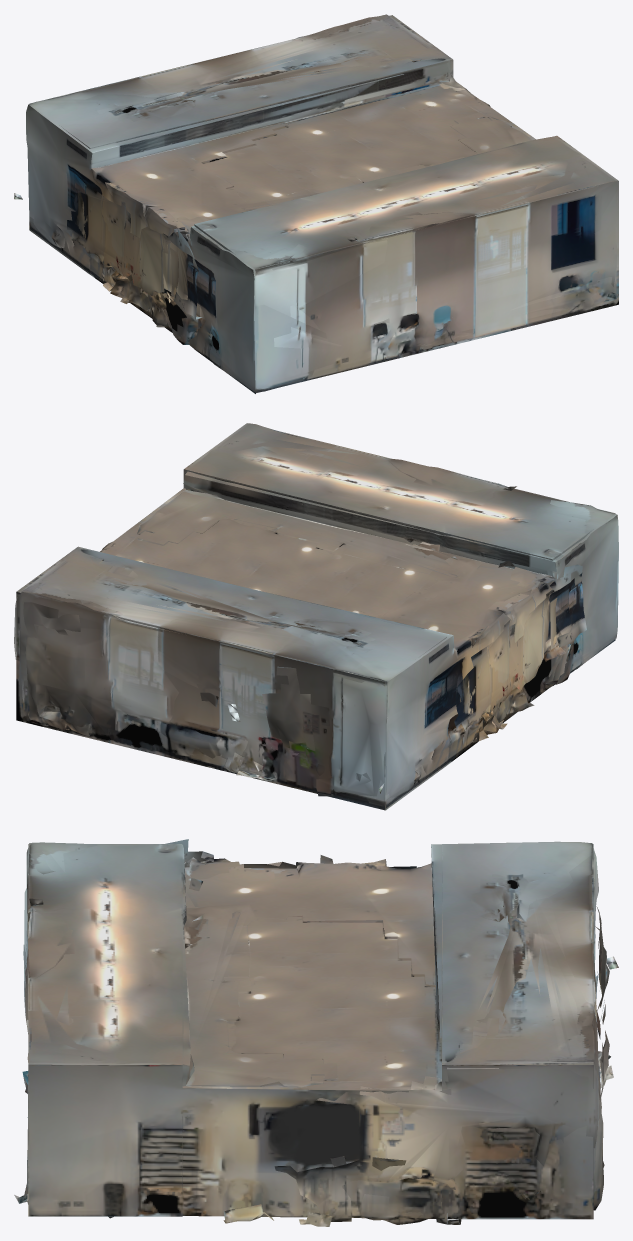
3 views of the same model, one above another, from view 1: azimuth 30°, elevation 25°; view 2: azimuth 150°, elevation 25°; view 3: azimuth 270°, elevation 25° (orthographic). The views are drawn at different scales.
Parts seen in each view (by area): view 1: 404_v3-IM; view 2: 404_v3-IM; view 3: 404_v3-IM.
Boxes of the visible parts, x1,y1,x2,y2 form: 404_v3-IM: (14,14,618,393); 404_v3-IM: (14,423,618,810); 404_v3-IM: (14,839,618,1226).
Size of the model in its own units: 854 by 278 by 909.
Materials: 1 (1 with a texture image).
